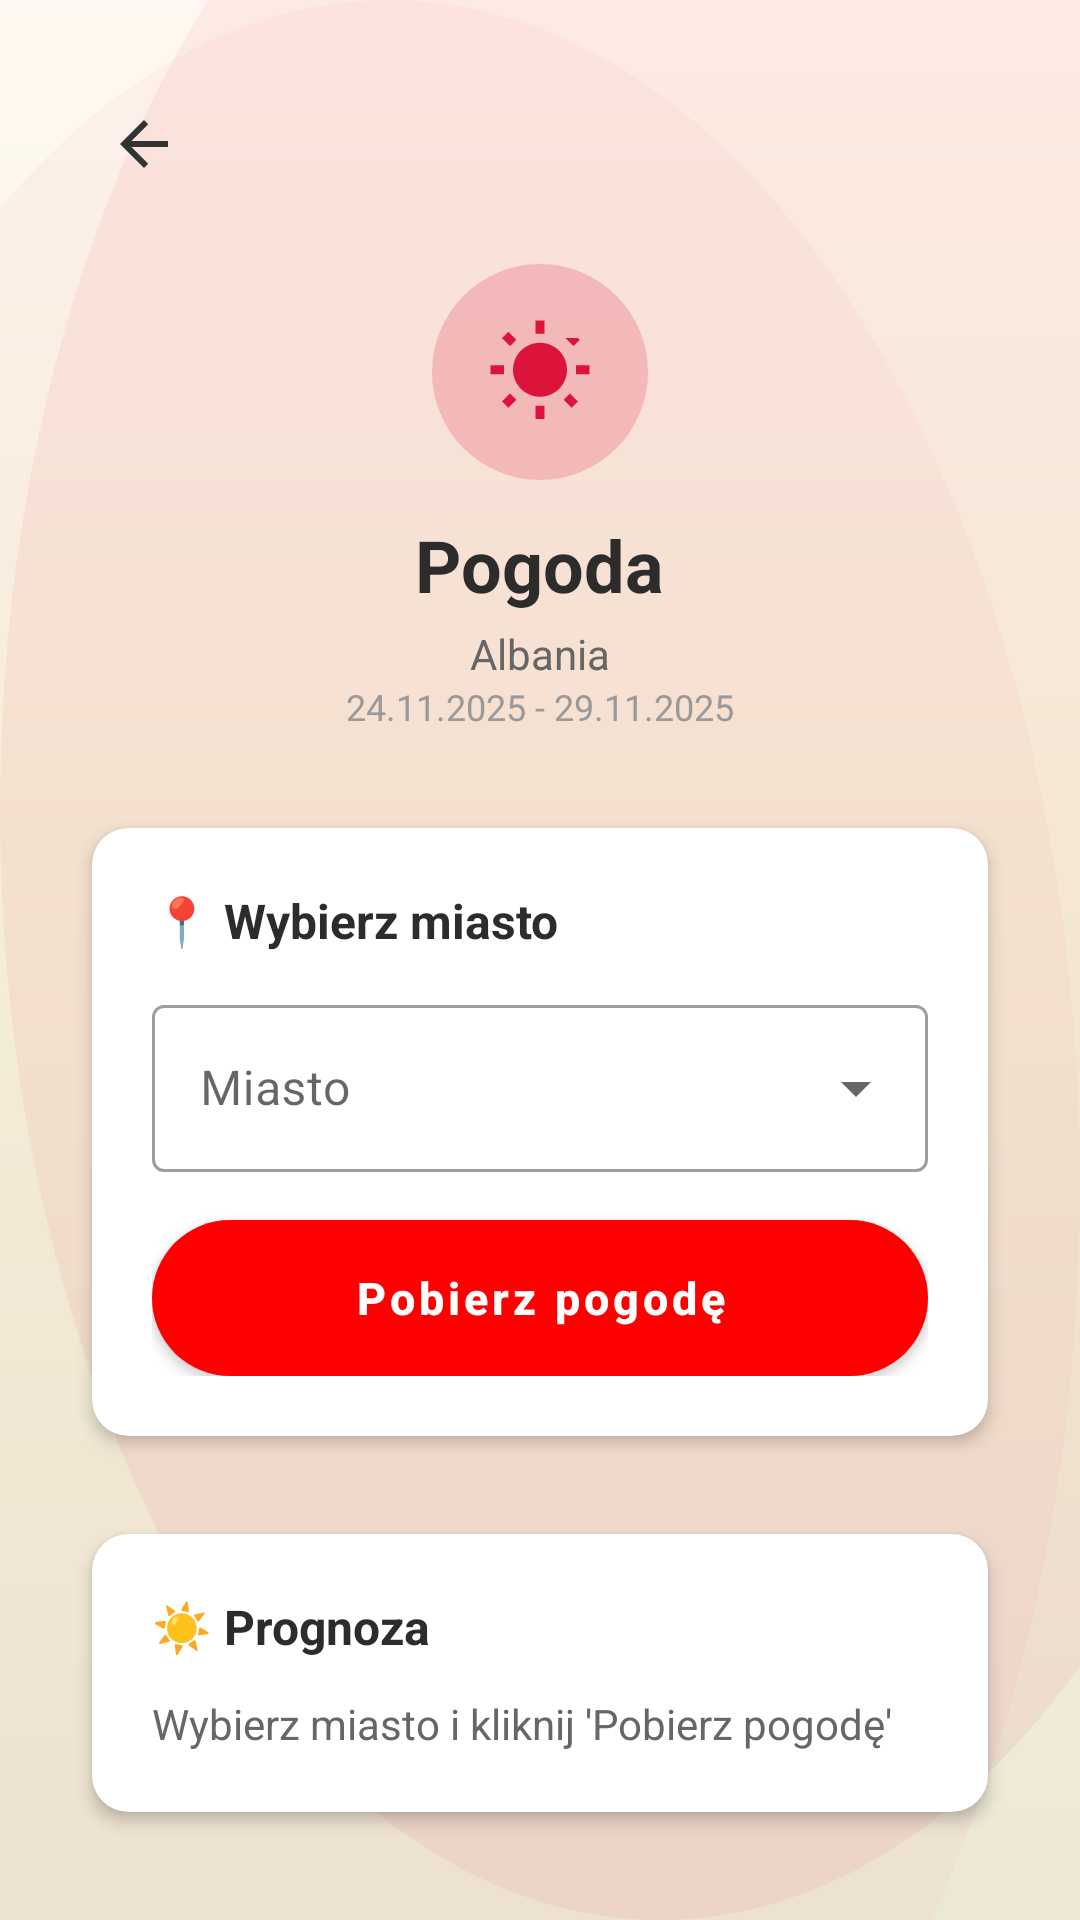

Icon click points for this 1080px x 1920px phone screenshot, format point (x, y):
weather: point (540, 369)
Wróć: point (144, 144)
